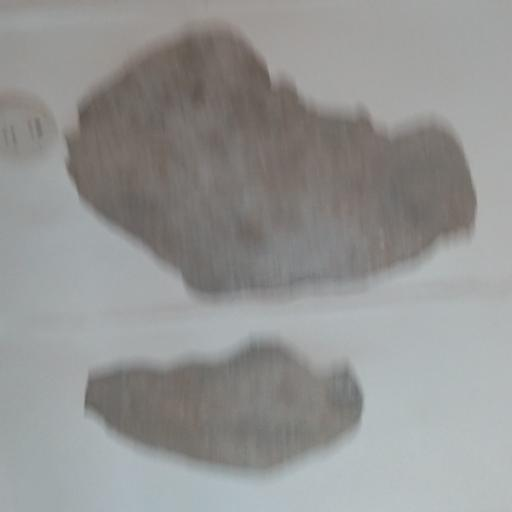peeling: (49, 16, 478, 296), (69, 319, 377, 482)
